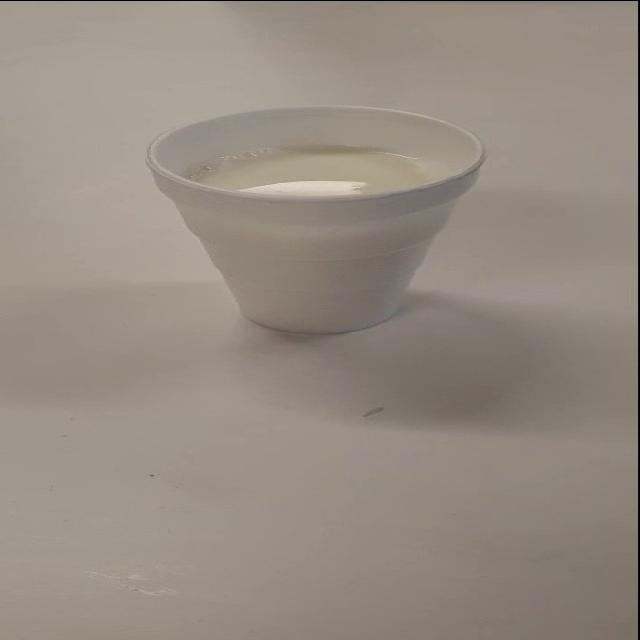milk: (125, 93, 520, 380)
